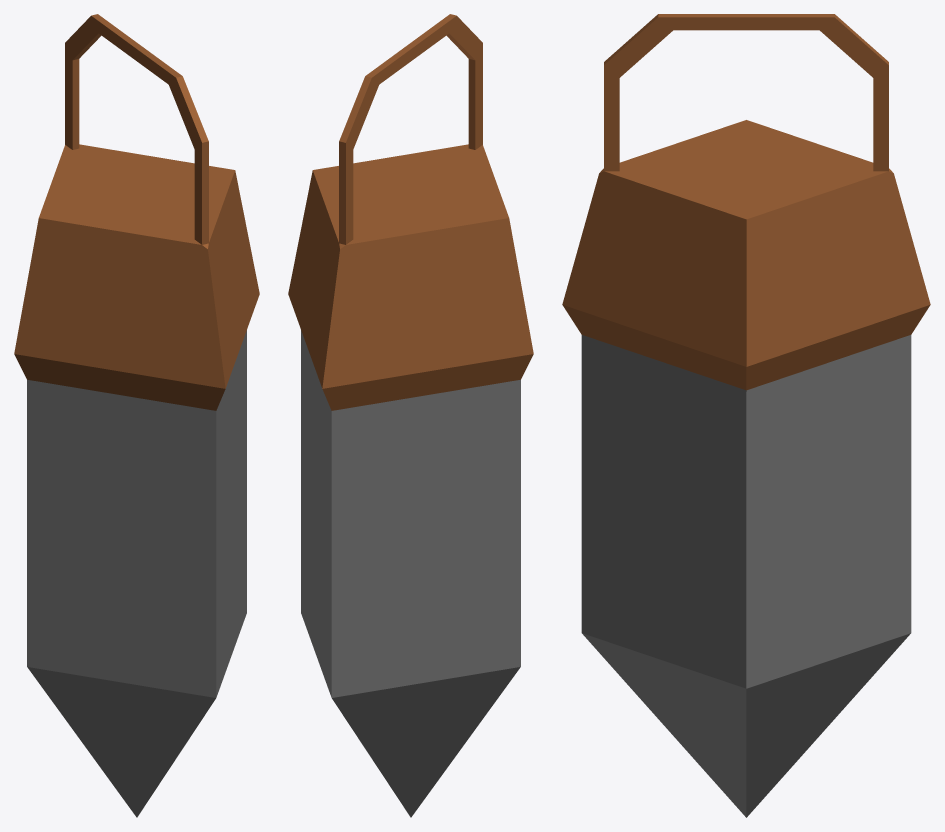
File: Charm.fbx
3 views of the same model, side by side, from view 1: azimuth 30°, elevation 25°; view 2: azimuth 150°, elevation 25°; view 3: azimuth 270°, elevation 25° (orthographic). The views are drawn at different scales.
Visible parts, largest first — view 1: Plane.004; view 2: Plane.004; view 3: Plane.004.
Boxes of the visible parts, box(x1,y1,x2,y2) form: Plane.004: box(14, 14, 259, 817); Plane.004: box(288, 14, 533, 817); Plane.004: box(562, 14, 930, 817).
Bounding box in the file's own units: 16.38 × 49.2 × 20.47.
